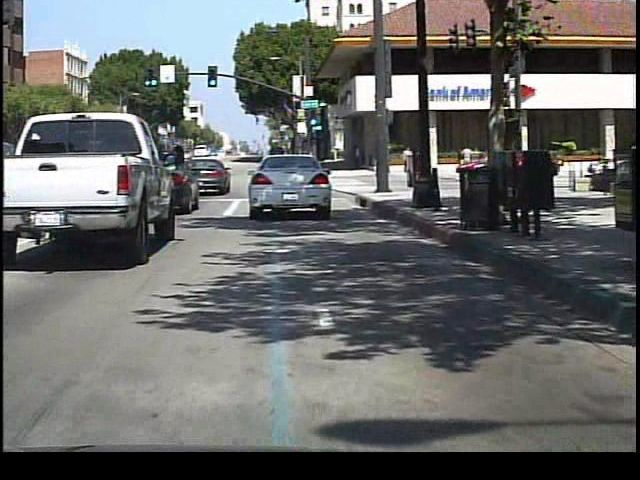person: (456, 139, 475, 175), (399, 143, 416, 177)
